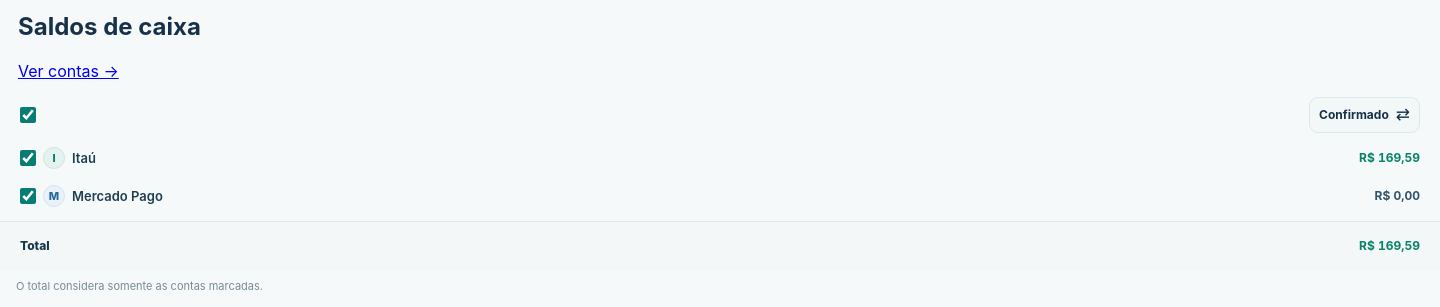
Test: Card de saldos de caixa › alterna entre confirmado e projetado sem fazer nova consulta ou alterar as contas
The width and height of the screenshot is (1440, 307).
Click the button with class "cash-balances-switch". click: (1365, 115)
box: [1309,97,1420,133]
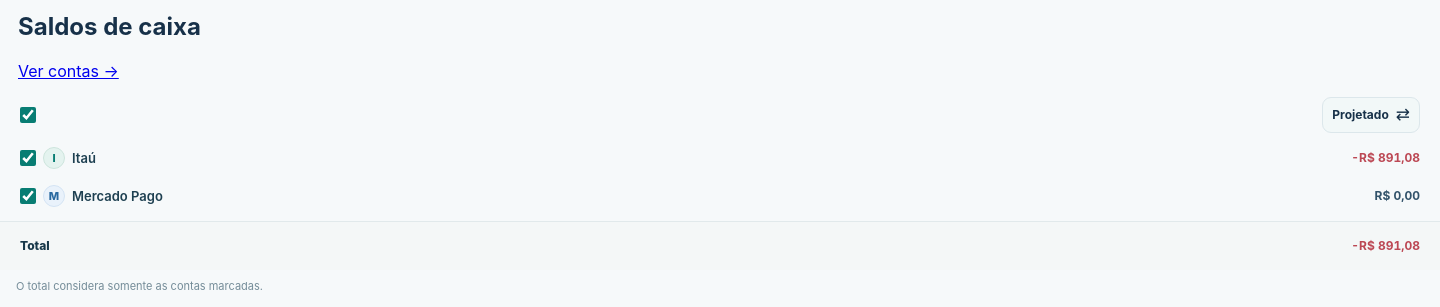
Now the button with class "cash-balances-switch" shows "Projetado"
Click the button with class "cash-balances-switch". click: (1371, 115)
box: [1322,97,1420,133]
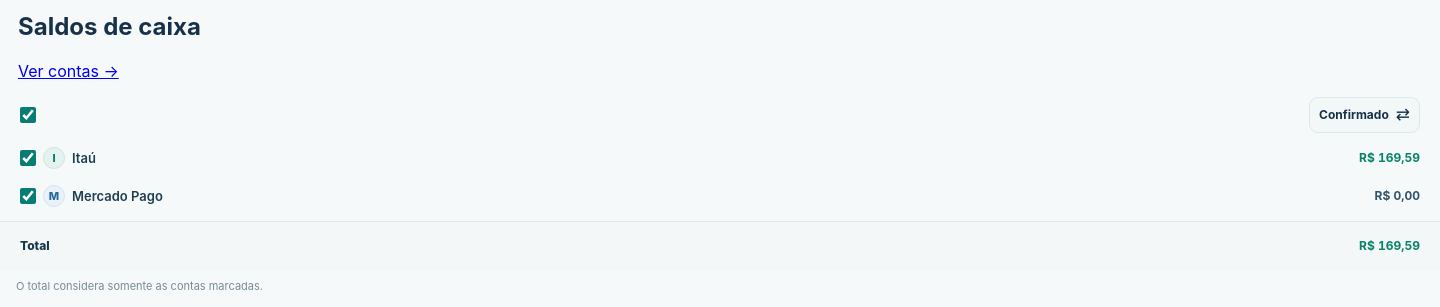
Now the footer with class "cash-balances-total" shows "169,59", box [1359,238,1420,253]
